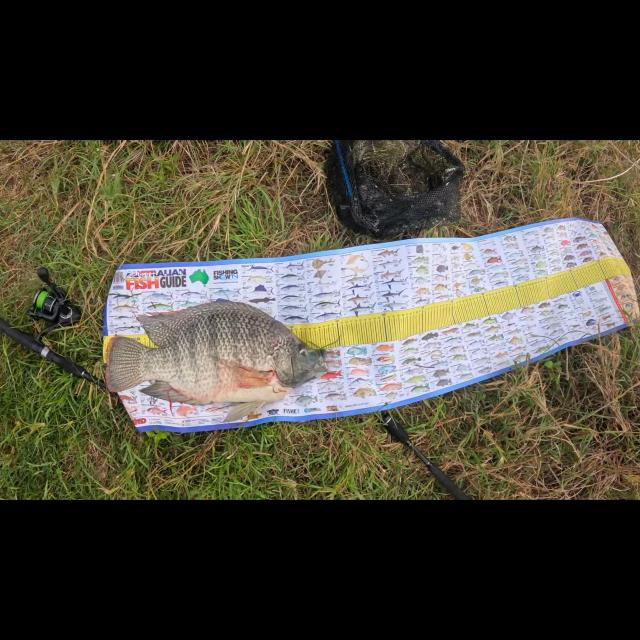Tilapia: (105, 300, 329, 426)
